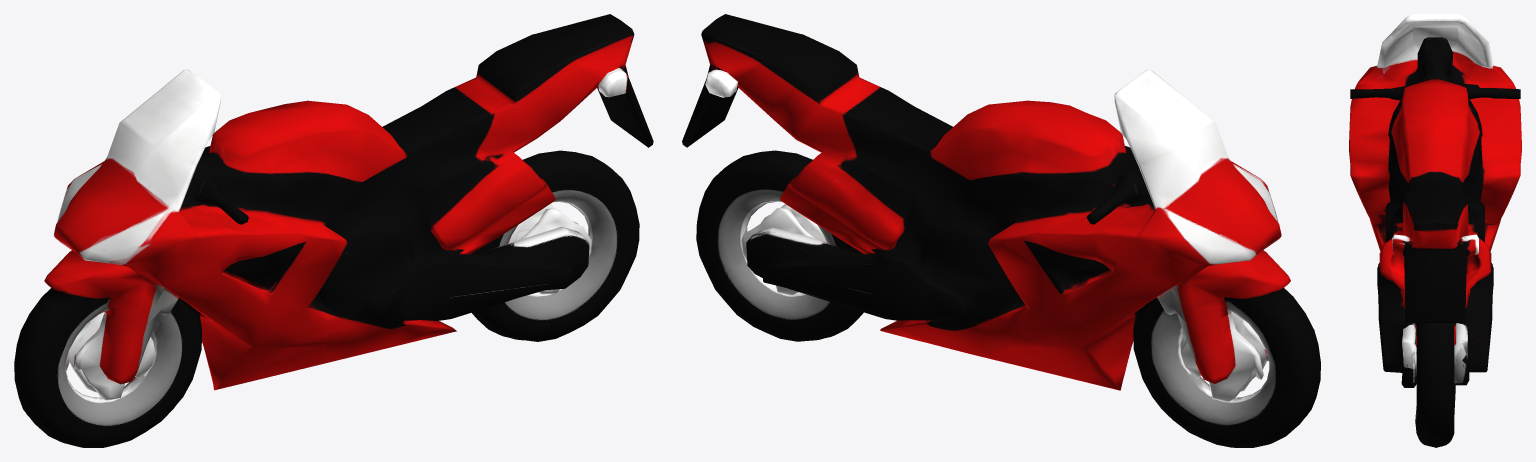
Rendered from moto2.glb.
The picture shows the model from 3 angles, left to right: view 1: azimuth 30°, elevation 25°; view 2: azimuth 150°, elevation 25°; view 3: azimuth 270°, elevation 25°; orthographic projection. The views are drawn at different scales.
Parts seen in each view (by area): view 1: Mesh_0; view 2: Mesh_0; view 3: Mesh_0.
Part boxes in pixels (left/top/right/bottom): Mesh_0: left=14, top=14, right=653, bottom=447; Mesh_0: left=682, top=14, right=1320, bottom=447; Mesh_0: left=1349, top=14, right=1521, bottom=447.
Bounding box in the file's own units: 2.46 × 1.3 × 0.7132.
1 material, 1 textured.
